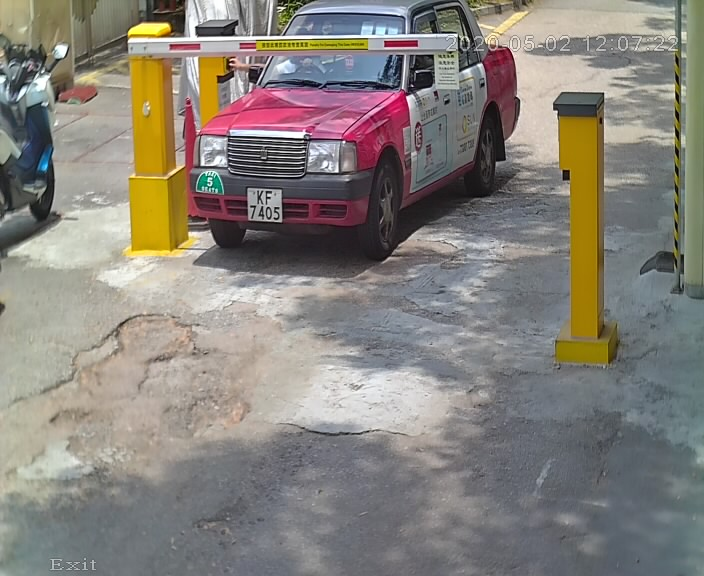taxi: (181, 2, 532, 279)
taxi_mark: (189, 165, 234, 203)
